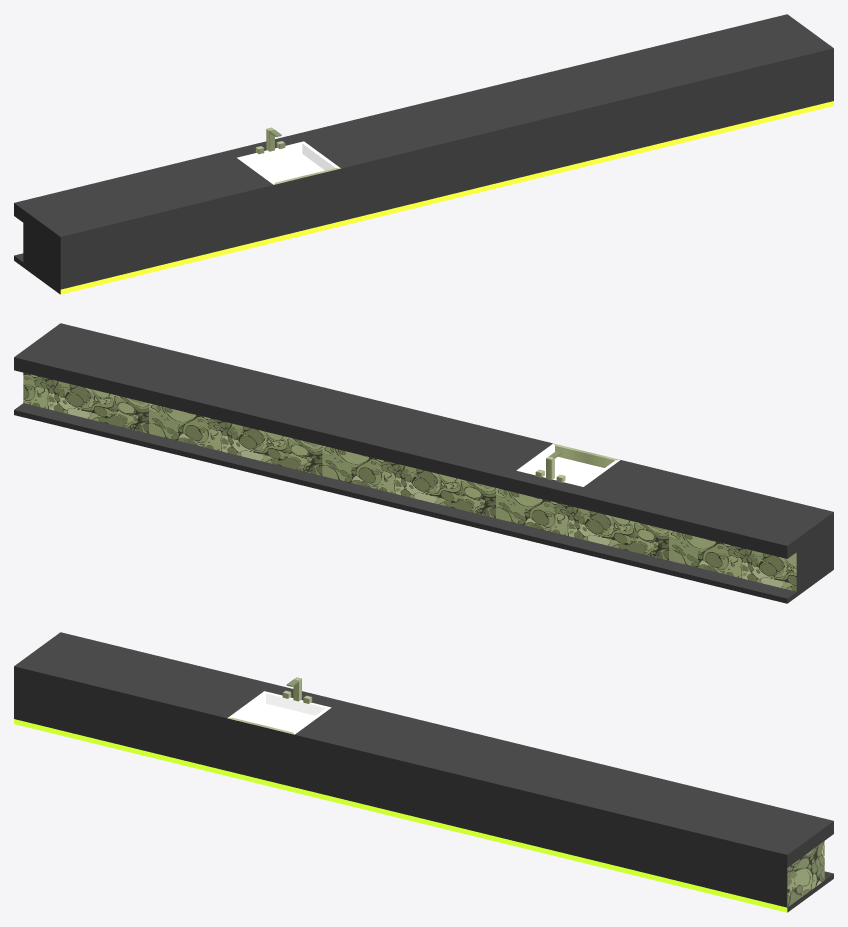
Rendered from Bar.glb.
3 renders of one model, top to bottom at view 1: azimuth 30°, elevation 25°; view 2: azimuth 150°, elevation 25°; view 3: azimuth 330°, elevation 25°, orthographic.
Visible parts, largest first — view 1: bar_1; view 2: bar_1; view 3: bar_1.
Boxes of the visible parts, bbox=[...] form: bar_1: bbox=[14, 14, 833, 294]; bar_1: bbox=[14, 323, 833, 603]; bar_1: bbox=[14, 632, 833, 912].
Size of what is drawn, in the model's own units: 12.6 by 1.22 by 1.32.
Materials: 3 (3 with a texture image).
